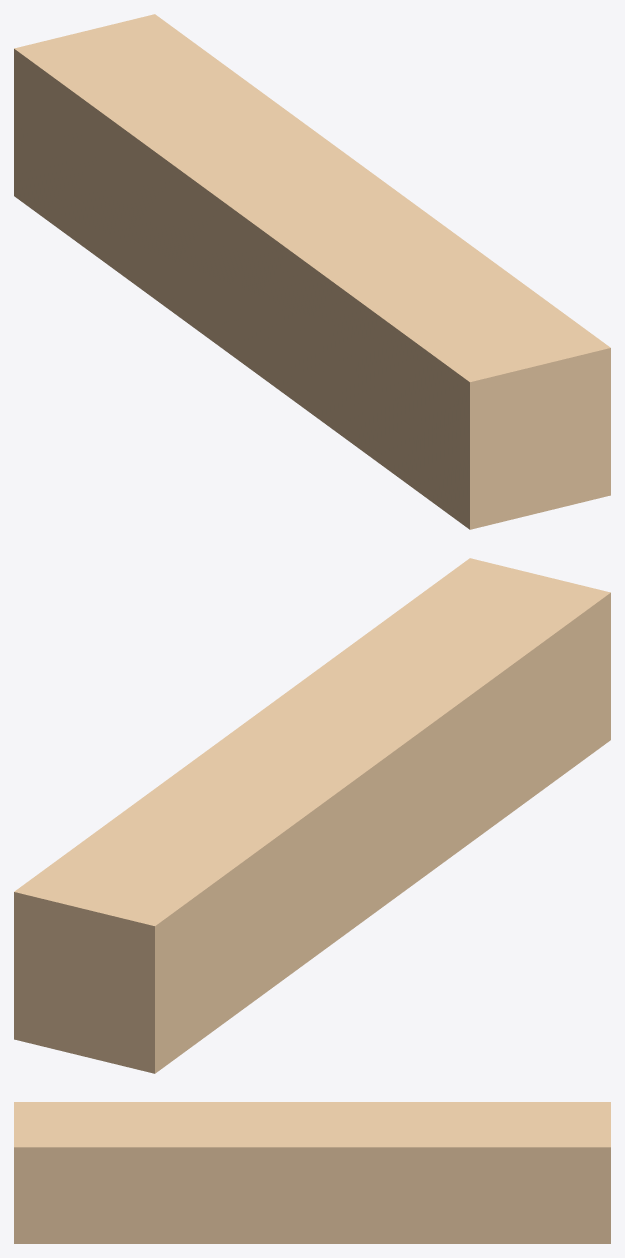
The model's file is fists-old.fbx.
3 renders of one model, top to bottom at view 1: azimuth 30°, elevation 25°; view 2: azimuth 150°, elevation 25°; view 3: azimuth 270°, elevation 25°, orthographic. The views are drawn at different scales.
Visible parts, largest first — view 1: hand; view 2: hand; view 3: hand.
Boxes of the visible parts, x1,y1,x2,y2 form: hand: (14,14,610,529); hand: (14,558,610,1073); hand: (14,1102,610,1243).
Size of the model in its own units: 100 by 100 by 560.
